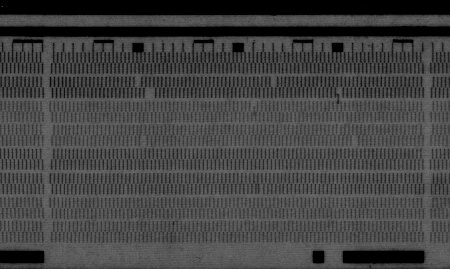Broken hole: (142, 86, 157, 100), (350, 135, 362, 149), (137, 136, 150, 148), (268, 76, 278, 90), (134, 77, 143, 88)
Oblique printing: (333, 87, 345, 102), (247, 100, 260, 113), (254, 182, 266, 196)
